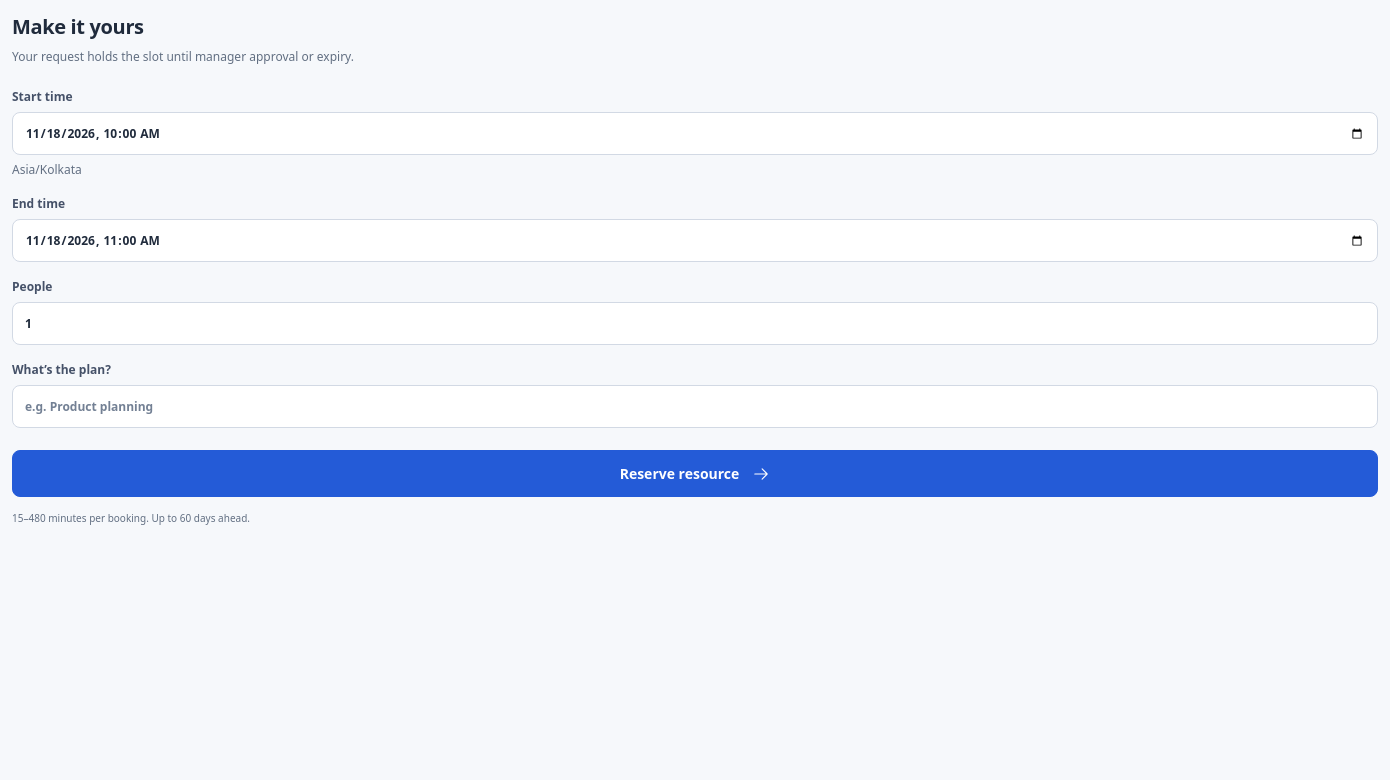
Test: ReserveOps user workflows › shows pending approval on successful reservation and sends no trusted user/status fields
In the field labelled "What’s the plan?": (695, 406) [12,385,1378,428], type "Design review"
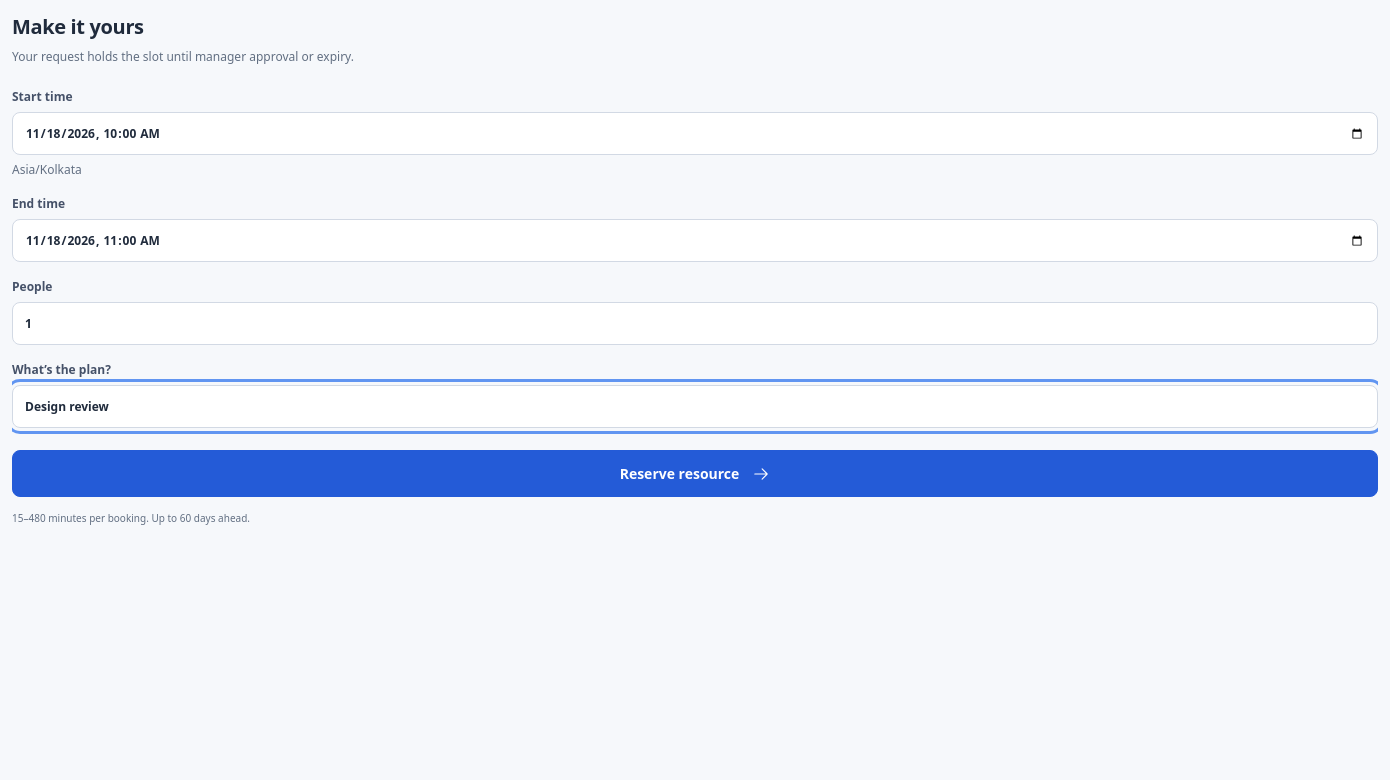
Click the button "Reserve resource": (695, 474) [12,450,1378,497]
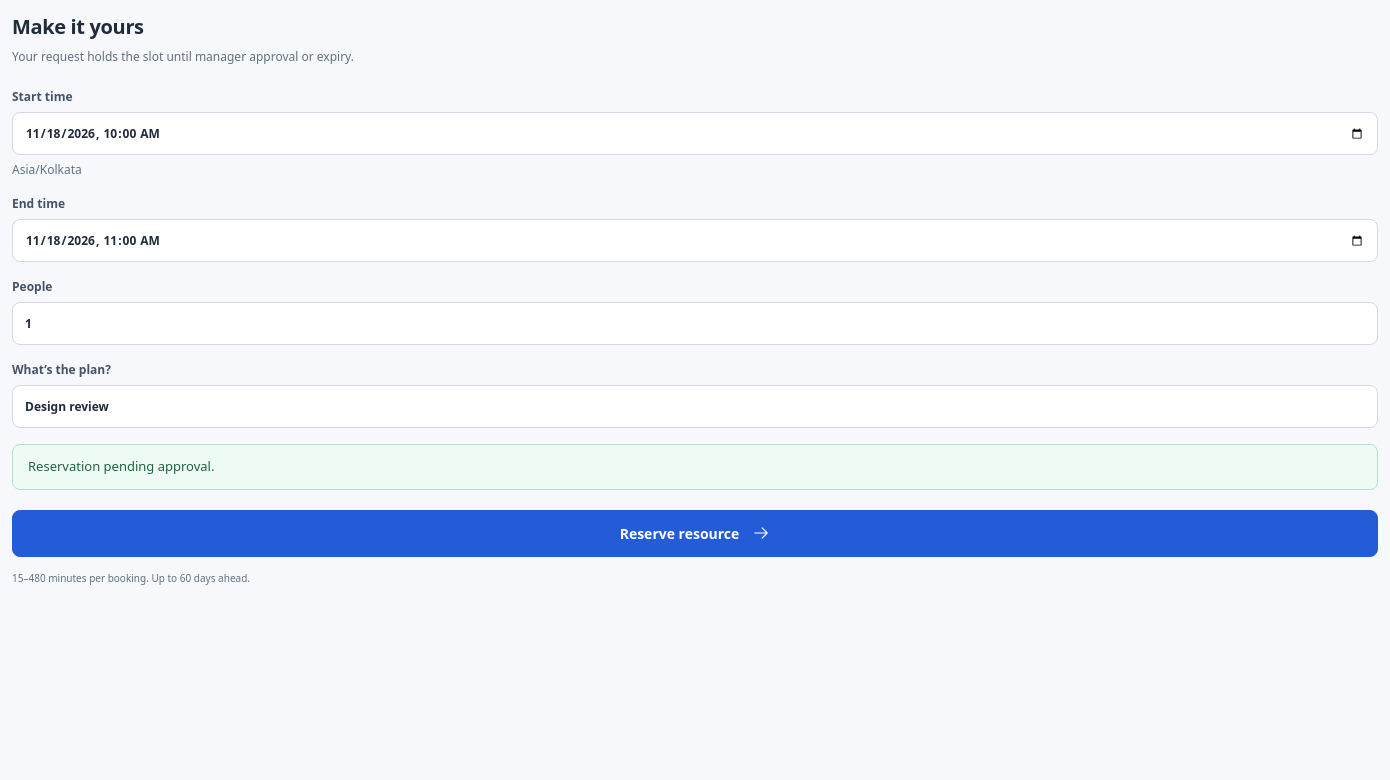
Check: the message reads "Reservation pending approval.", box [28,457,214,475]
